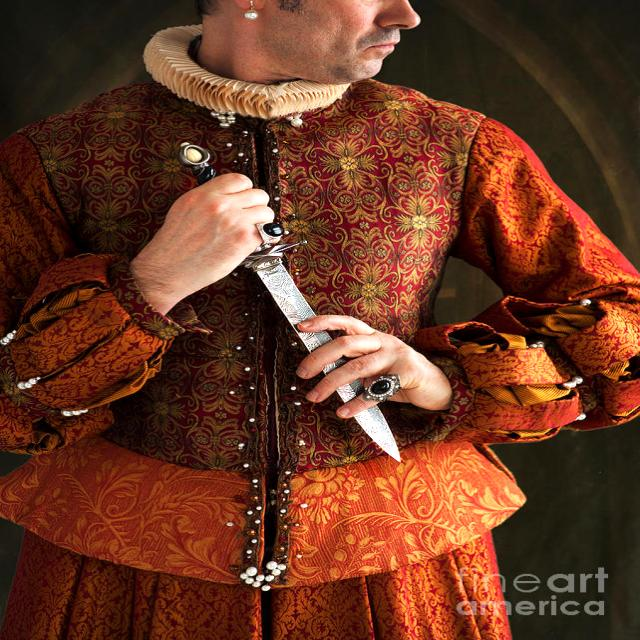short sword: (167, 140, 427, 473)
